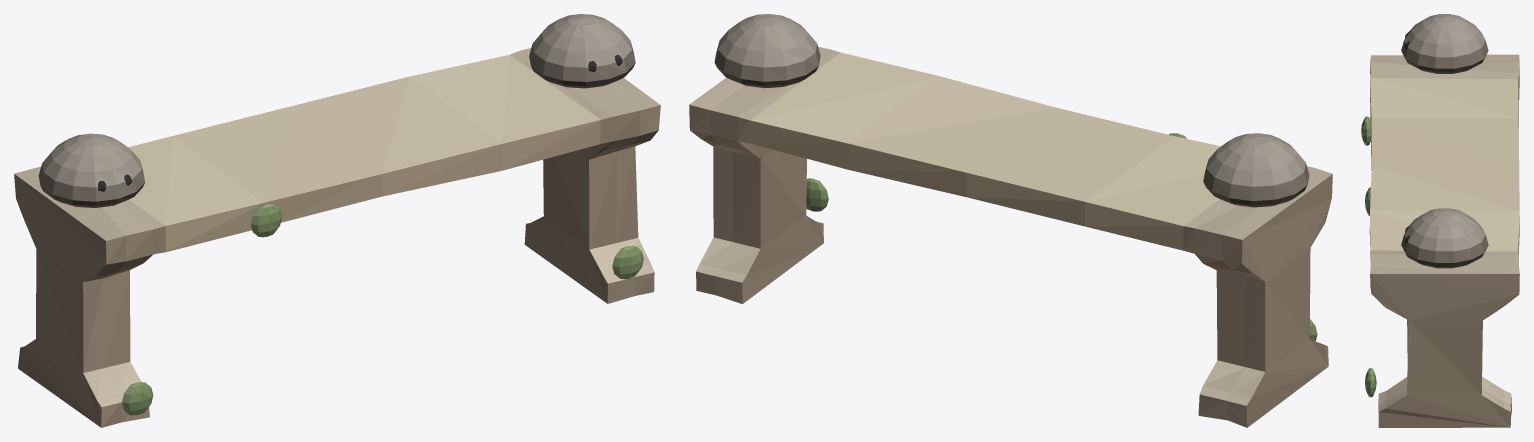
Rendered from Stone_Bench.glb.
3 views of the same model, side by side, from view 1: azimuth 30°, elevation 25°; view 2: azimuth 150°, elevation 25°; view 3: azimuth 270°, elevation 25° (orthographic). The views are drawn at different scales.
Visible parts, largest first — view 1: Bench_Body, Bench_Slime_R, Bench_Slime_L, Bench_Moss_0, Bench_Moss_1, Bench_Moss_2; view 2: Bench_Body, Bench_Slime_L, Bench_Slime_R, Bench_Moss_1; view 3: Bench_Body, Bench_Slime_R, Bench_Slime_L, Bench_Moss_1, Bench_Moss_2.
Part boxes in pixels (x1=…): Bench_Body: x1=14, y1=48, x2=660, y2=427; Bench_Slime_R: x1=529, y1=14, x2=635, y2=88; Bench_Slime_L: x1=38, y1=133, x2=145, y2=207; Bench_Moss_0: x1=122, y1=382, x2=153, y2=415; Bench_Moss_1: x1=612, y1=246, x2=643, y2=279; Bench_Moss_2: x1=250, y1=204, x2=282, y2=237; Bench_Body: x1=689, y1=47, x2=1332, y2=427; Bench_Slime_L: x1=1203, y1=133, x2=1309, y2=207; Bench_Slime_R: x1=714, y1=14, x2=820, y2=88; Bench_Moss_1: x1=806, y1=178, x2=828, y2=211; Bench_Body: x1=1369, y1=54, x2=1519, y2=427; Bench_Slime_R: x1=1401, y1=208, x2=1488, y2=268; Bench_Slime_L: x1=1401, y1=14, x2=1488, y2=73; Bench_Moss_1: x1=1365, y1=368, x2=1376, y2=397; Bench_Moss_2: x1=1361, y1=116, x2=1371, y2=145.
Bounding box in the file's own units: 1.47 × 0.6122 × 0.4283.
